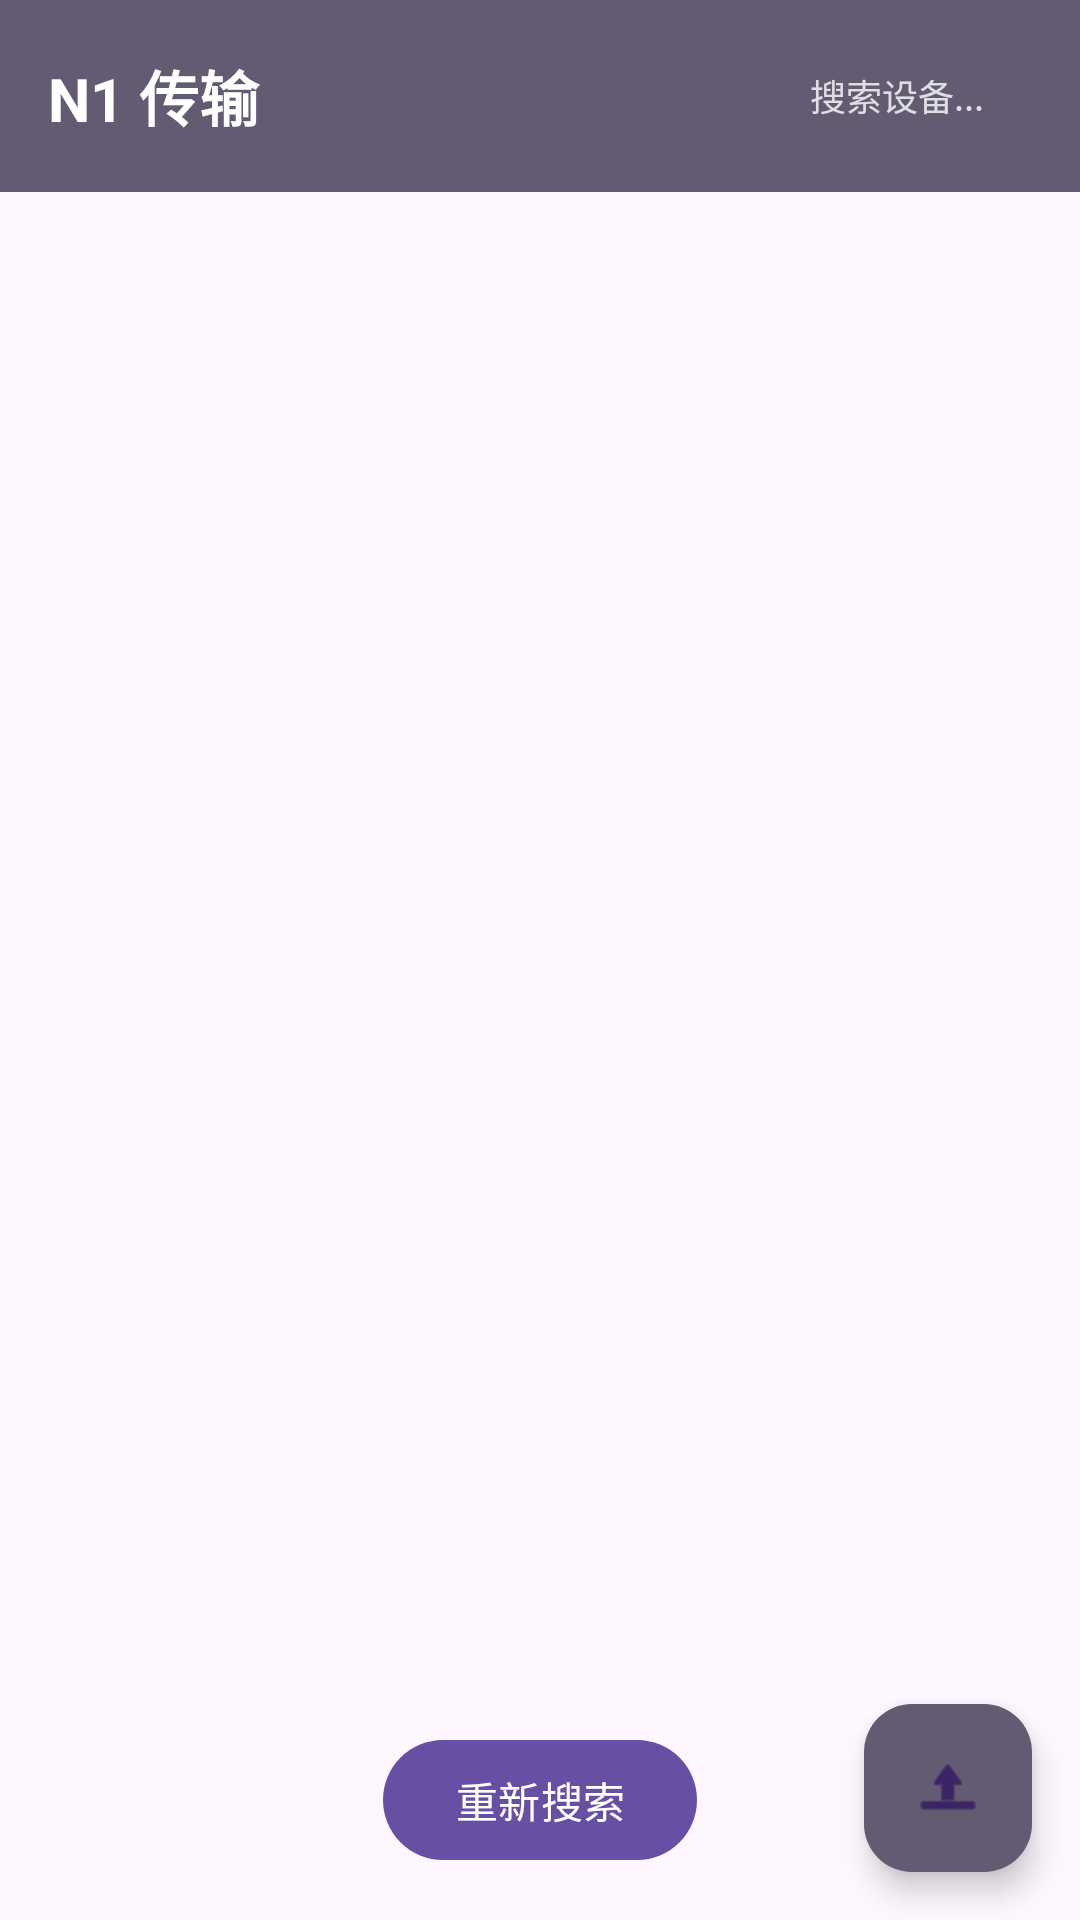

Named icons in this screenshot (1080 × 1920) and their centers, (x,y):
upload: (948,1788)
